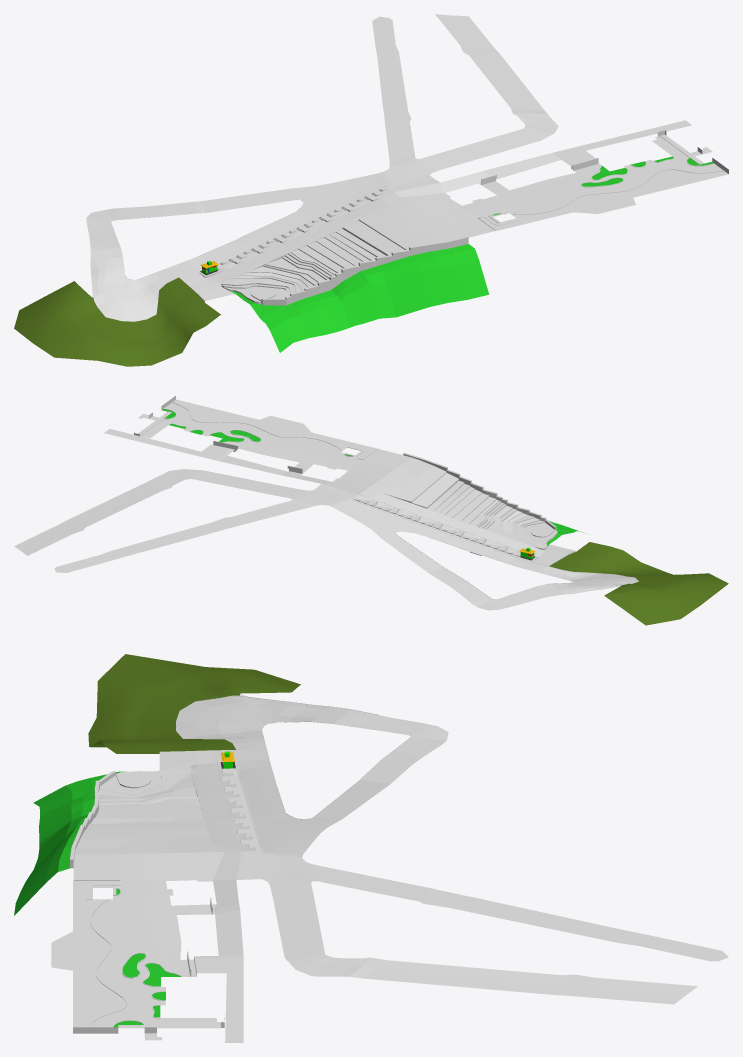
File: EntornoOrla.fbx
The picture shows the model from 3 angles, top to bottom: view 1: azimuth 30°, elevation 25°; view 2: azimuth 150°, elevation 25°; view 3: azimuth 270°, elevation 25°; orthographic projection. The views are drawn at different scales.
Parts seen in each view (by area): view 1: OK - Asfalto, OK - TerraOrla, OK - Grama, Ok - Escadaria, Ok - Piso Entrada Subida, Ok - Piso Parte Superior, OK - Muro Orla, Ok - CalcadaOrla, Ok - PisoVERMELHO, OK - MeioFio, ok - PisoCINZA, Ok - Casas Meio Fio (+1 smaller); view 2: OK - Asfalto, Ok - Escadaria, OK - Grama, Ok - Piso Entrada Subida, Ok - Piso Parte Superior, Ok - CalcadaOrla, Ok - PisoVERMELHO, OK - MeioFio, OK - Muro Orla, ok - PisoCINZA, Ok - Grama Parte Superior, Ok - Casas Meio Fio; view 3: OK - Asfalto, Ok - Piso Entrada Subida, Ok - Escadaria, OK - Grama, Ok - Piso Parte Superior, OK - TerraOrla, Ok - PisoVERMELHO, Ok - CalcadaOrla, OK - MeioFio, ok - PisoCINZA, Ok - Grama Parte Superior, Ok - Casas Meio Fio (+1 smaller).
Part boxes in pixels (box(x1,y1,x2,y2)): OK - Asfalto: box(86, 14, 558, 321); OK - TerraOrla: box(230, 244, 489, 352); OK - Grama: box(14, 277, 220, 366); Ok - Escadaria: box(206, 192, 454, 303); Ok - Piso Entrada Subida: box(386, 120, 691, 238); Ok - Piso Parte Superior: box(479, 170, 728, 230); OK - Muro Orla: box(261, 236, 468, 305); Ok - CalcadaOrla: box(197, 186, 393, 278); Ok - PisoVERMELHO: box(500, 134, 723, 214); OK - MeioFio: box(89, 188, 380, 321); ok - PisoCINZA: box(578, 163, 720, 194); Ok - Casas Meio Fio: box(478, 156, 724, 230); OK - Asfalto: box(14, 469, 638, 610); Ok - Escadaria: box(358, 457, 557, 556); OK - Grama: box(549, 542, 728, 625); Ok - Piso Entrada Subida: box(104, 428, 411, 500); Ok - Piso Parte Superior: box(173, 399, 377, 459); Ok - CalcadaOrla: box(351, 494, 538, 561); Ok - PisoVERMELHO: box(140, 402, 345, 455); OK - MeioFio: box(352, 500, 637, 599); OK - Muro Orla: box(403, 452, 556, 530); ok - PisoCINZA: box(164, 404, 276, 439); Ok - Grama Parte Superior: box(162, 409, 352, 456); Ok - Casas Meio Fio: box(163, 402, 378, 459); OK - Asfalto: box(176, 693, 728, 1004); Ok - Piso Entrada Subida: box(73, 851, 263, 1042); Ok - Escadaria: box(74, 763, 240, 854); OK - Grama: box(88, 654, 300, 753); Ok - Piso Parte Superior: box(51, 880, 126, 1027); OK - TerraOrla: box(14, 771, 126, 915); Ok - PisoVERMELHO: box(90, 893, 224, 1027); Ok - CalcadaOrla: box(214, 761, 263, 851); OK - MeioFio: box(159, 695, 410, 850); ok - PisoCINZA: box(99, 946, 144, 1027); Ok - Grama Parte Superior: box(113, 889, 181, 1027); Ok - Casas Meio Fio: box(73, 880, 181, 1027).
Size of the model in its own units: 305 by 26.54 by 208.
